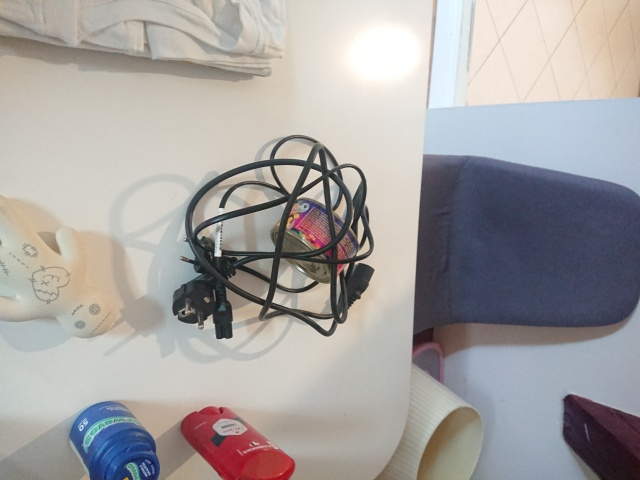Giana Tuna Salad Mexico 185g: (268, 197, 362, 286)
